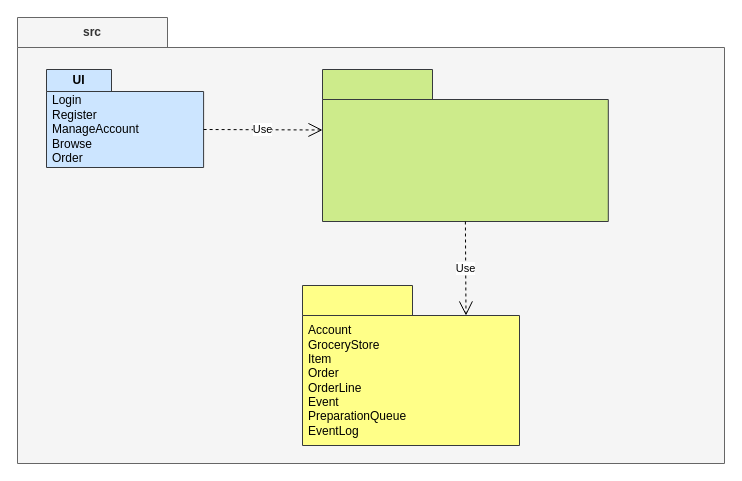
The diagram is 742 pixels wide and 481 high, and some of its shapes have lost their labels. Each missing label, with the box of its shape:
Application: (322, 68, 608, 222)
Domain: (302, 284, 520, 446)
